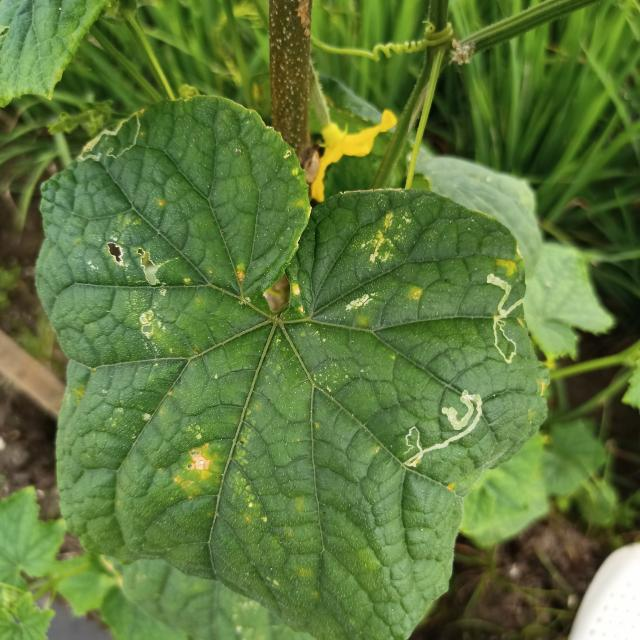disease_cucumber: (108, 238, 176, 348), (352, 212, 409, 266), (174, 438, 222, 497), (338, 288, 381, 319), (495, 254, 528, 282), (288, 280, 310, 318), (532, 375, 550, 401), (230, 263, 248, 286), (408, 286, 425, 304)
